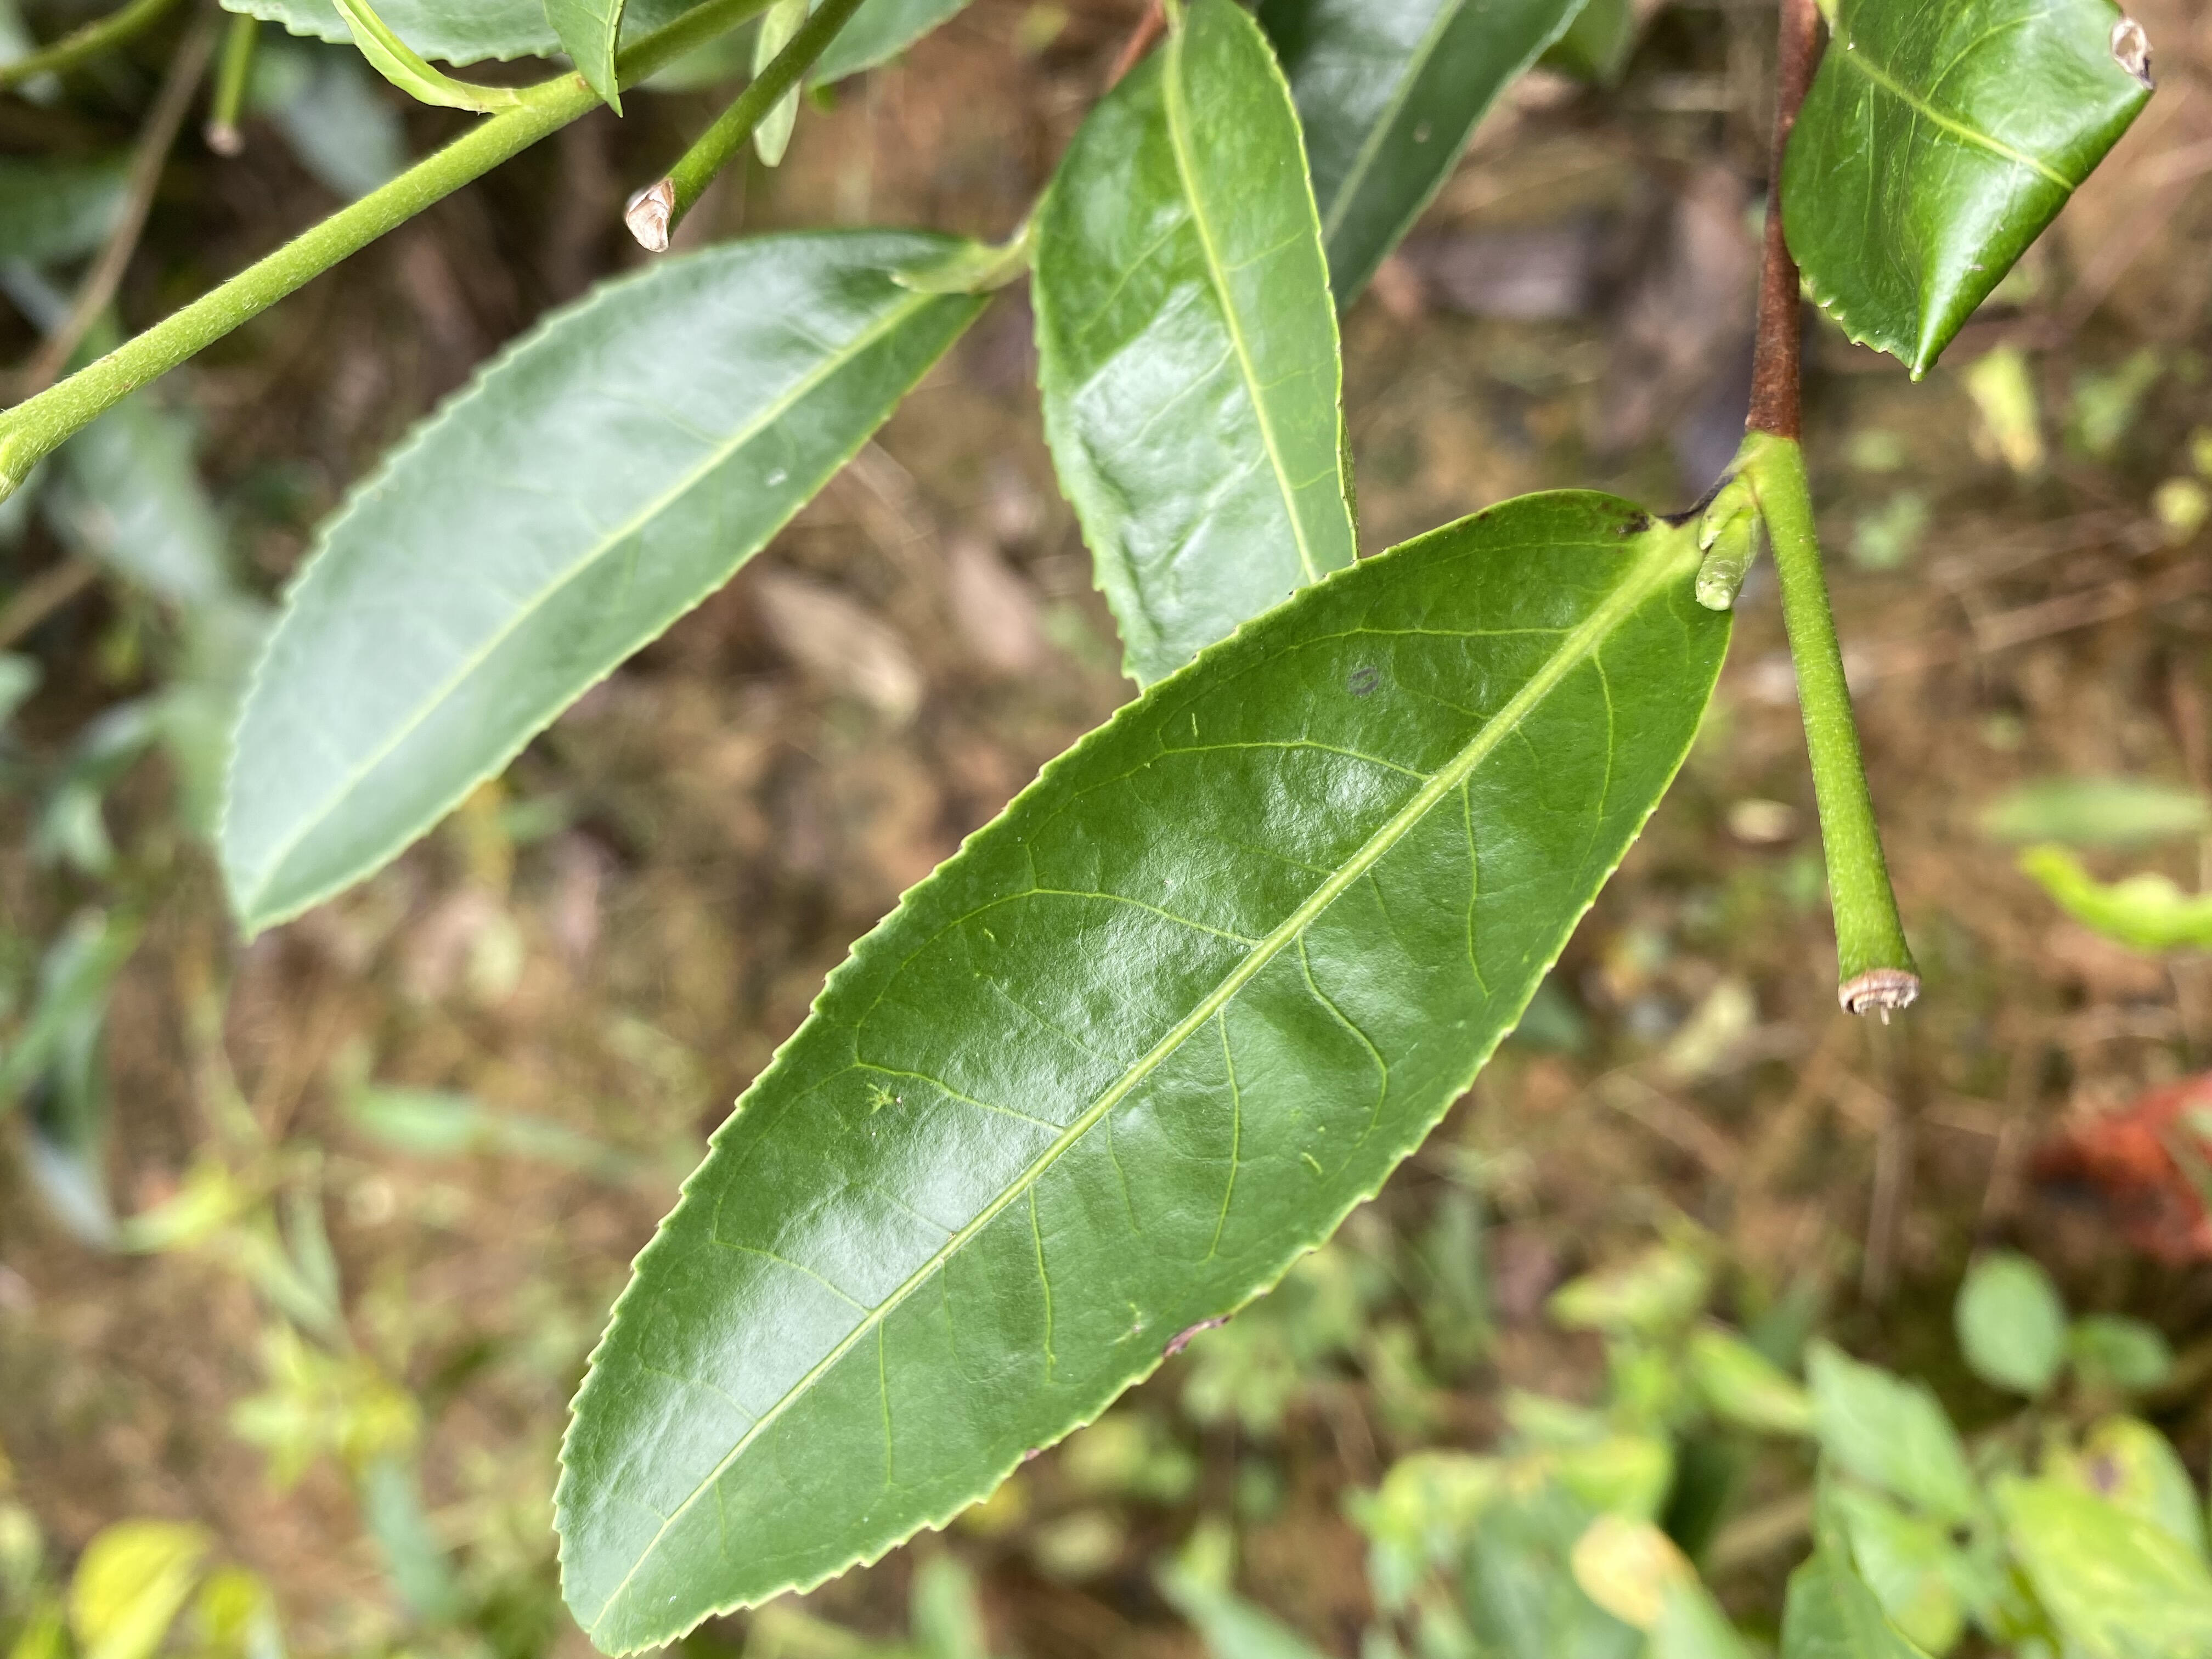healthy: (1028, 2, 1359, 697)
tanju_low: (550, 493, 1738, 1659), (1778, 2, 2161, 383)
